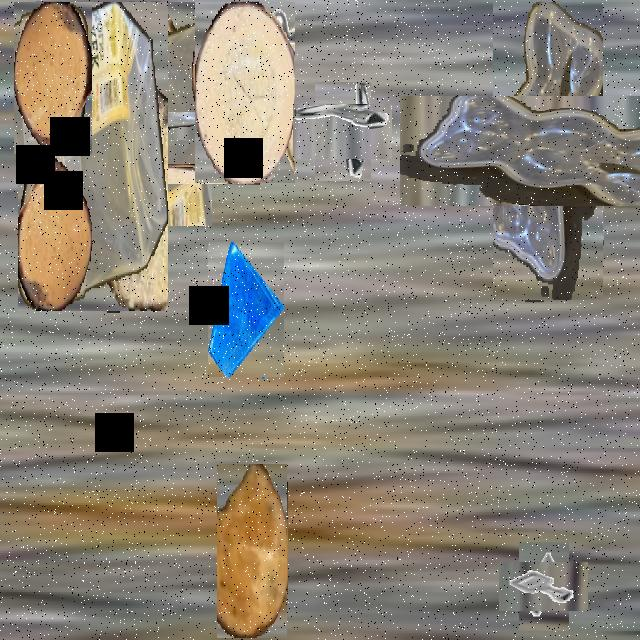glass: (208, 242, 284, 377)
metal: (162, 2, 224, 112), (304, 93, 382, 170), (509, 552, 579, 621)
plastic: (18, 2, 168, 311), (446, 48, 640, 253)
wood: (51, 23, 233, 205), (195, 2, 295, 183), (217, 464, 287, 638), (14, 2, 92, 154)
